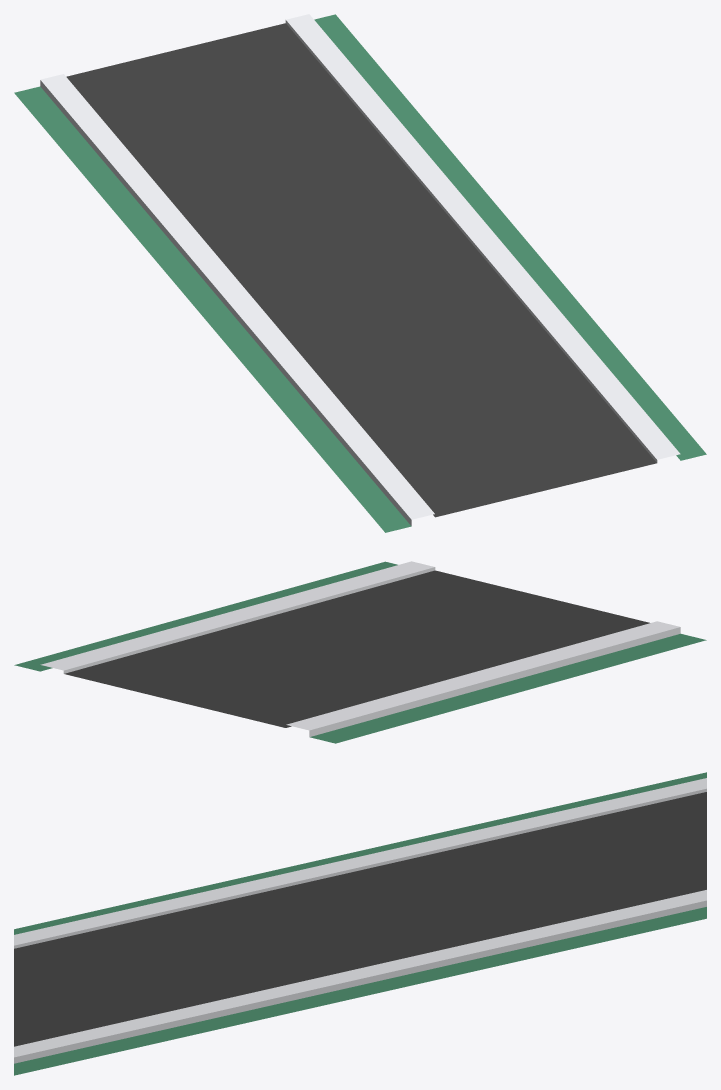
Rendered from roadRampLong.glb.
The picture shows the model from 3 angles, top to bottom: view 1: azimuth 30°, elevation 25°; view 2: azimuth 150°, elevation 25°; view 3: azimuth 270°, elevation 25°; orthographic projection. The views are drawn at different scales.
Parts seen in each view (by area): view 1: roadRampLong(Clone); view 2: roadRampLong(Clone); view 3: roadRampLong(Clone).
Boxes of the visible parts, left/top/right/bottom form: roadRampLong(Clone): left=14, top=14, right=706, bottom=532; roadRampLong(Clone): left=14, top=561, right=706, bottom=743; roadRampLong(Clone): left=14, top=772, right=706, bottom=1075.
Bounding box in the file's own units: 1 × 0.52 × 2.
